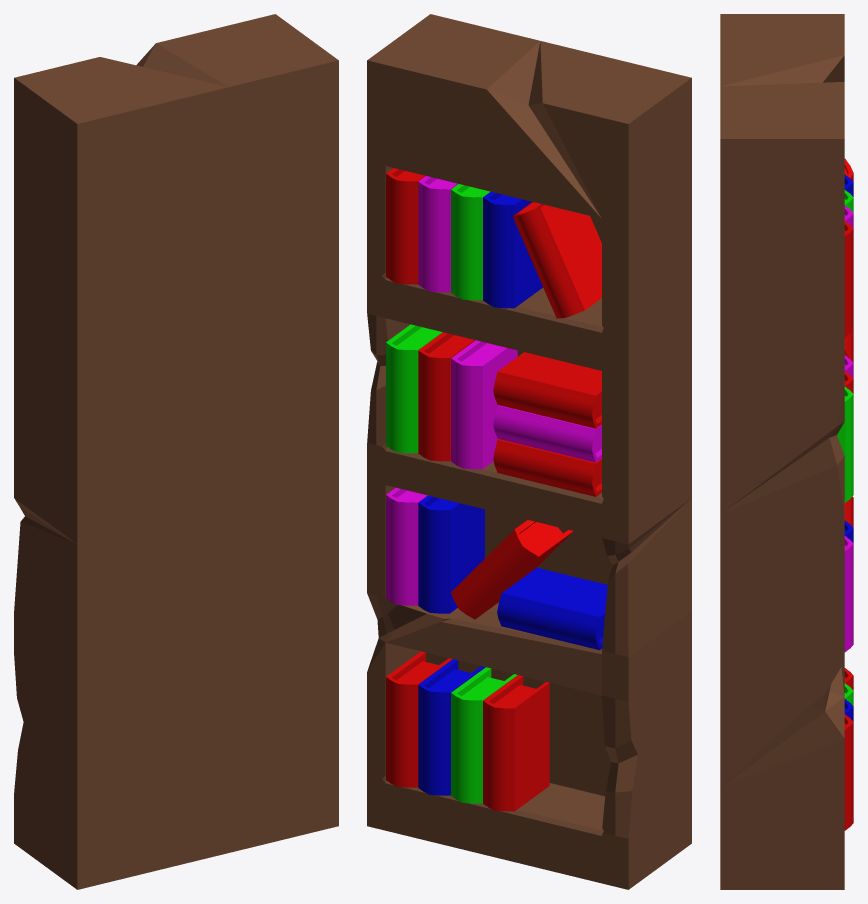
Rendered from bookshelf.fbx.
The picture shows the model from 3 angles, left to right: view 1: azimuth 30°, elevation 25°; view 2: azimuth 150°, elevation 25°; view 3: azimuth 270°, elevation 25°; orthographic projection.
Parts seen in each view (by area): view 1: bookshelf1; view 2: bookshelf1; view 3: bookshelf1.
Boxes of the visible parts, x1,y1,x2,y2 form: bookshelf1: (14, 14, 338, 889); bookshelf1: (367, 14, 691, 889); bookshelf1: (720, 14, 853, 889).
Bounding box in the file's own units: 1 × 2.8 × 0.4495.
